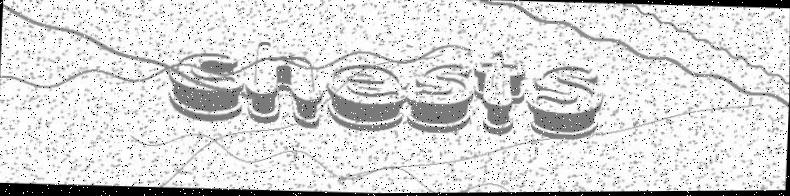c: (165, 50, 247, 122)
e: (325, 53, 409, 134)
h: (249, 35, 327, 130)
s: (523, 61, 608, 140), (407, 59, 478, 134)
t: (473, 45, 532, 137)
